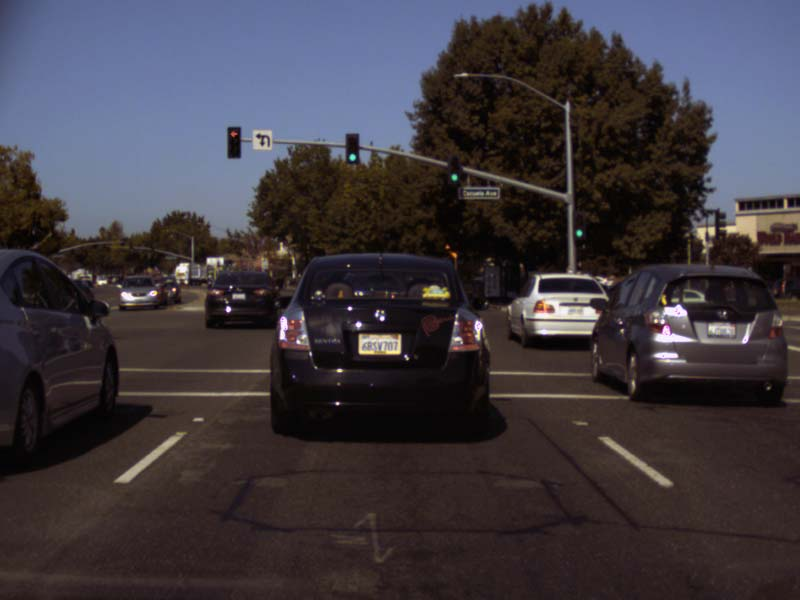Green: (344, 133, 358, 163), (447, 156, 460, 184), (571, 213, 584, 240)
Red: (227, 126, 241, 157)
